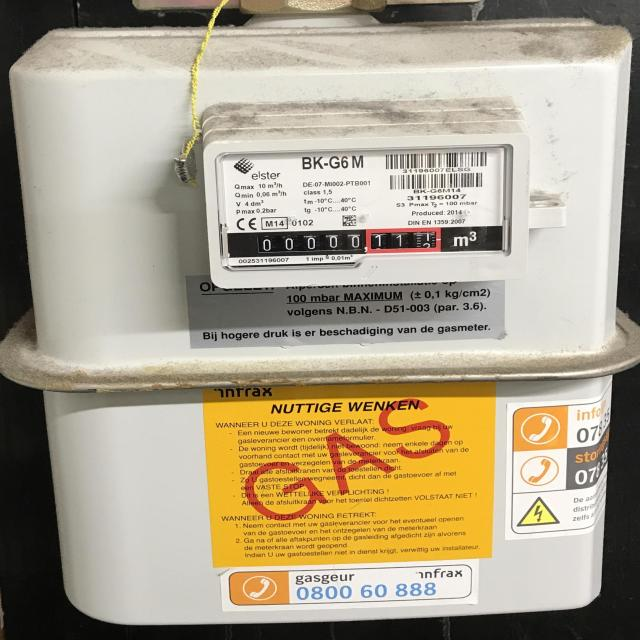gaz_meter: (216, 152, 514, 263)
indication: (241, 227, 441, 260)
